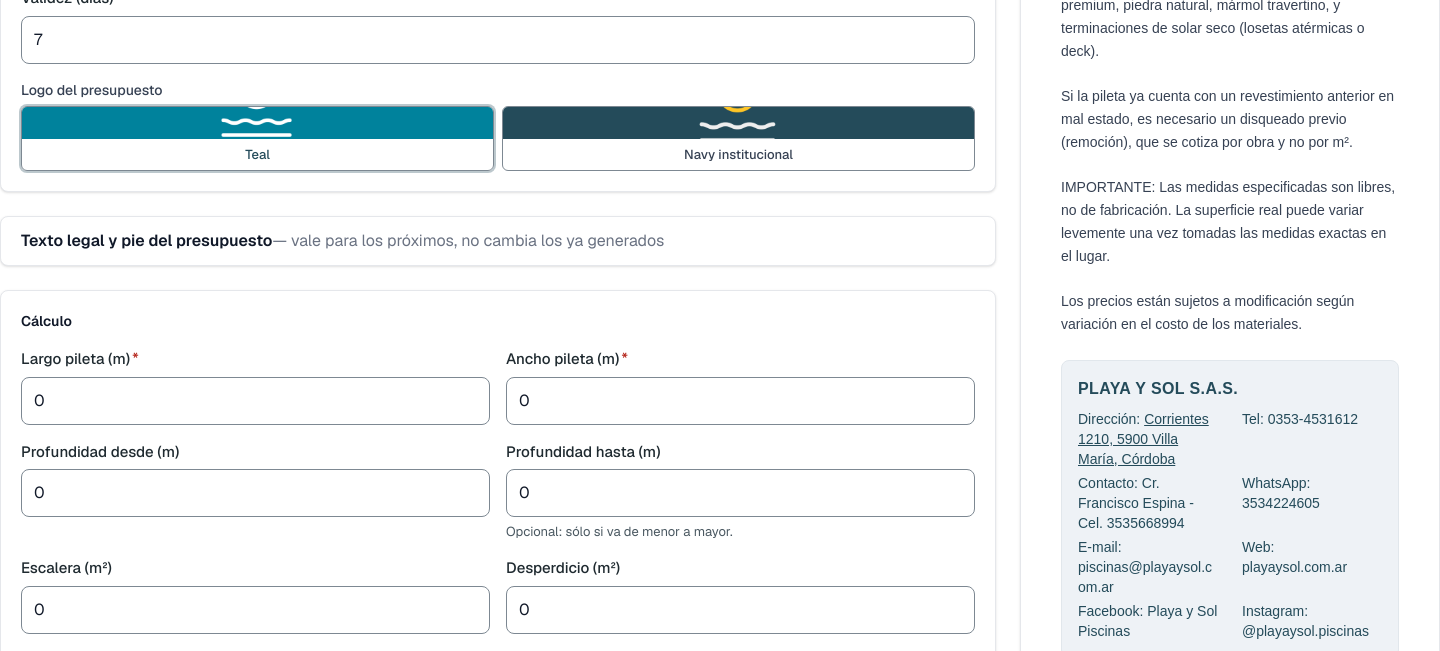
Test: RevestimientoCalculadora · paridad con el oráculo › un revestimiento incluido, cobrado por m² (68 m² × $112.000)
(page scrolled)
In the field labelled "Largo pileta (m)": coordinates (256, 401) [21,377,490,425], type "8"
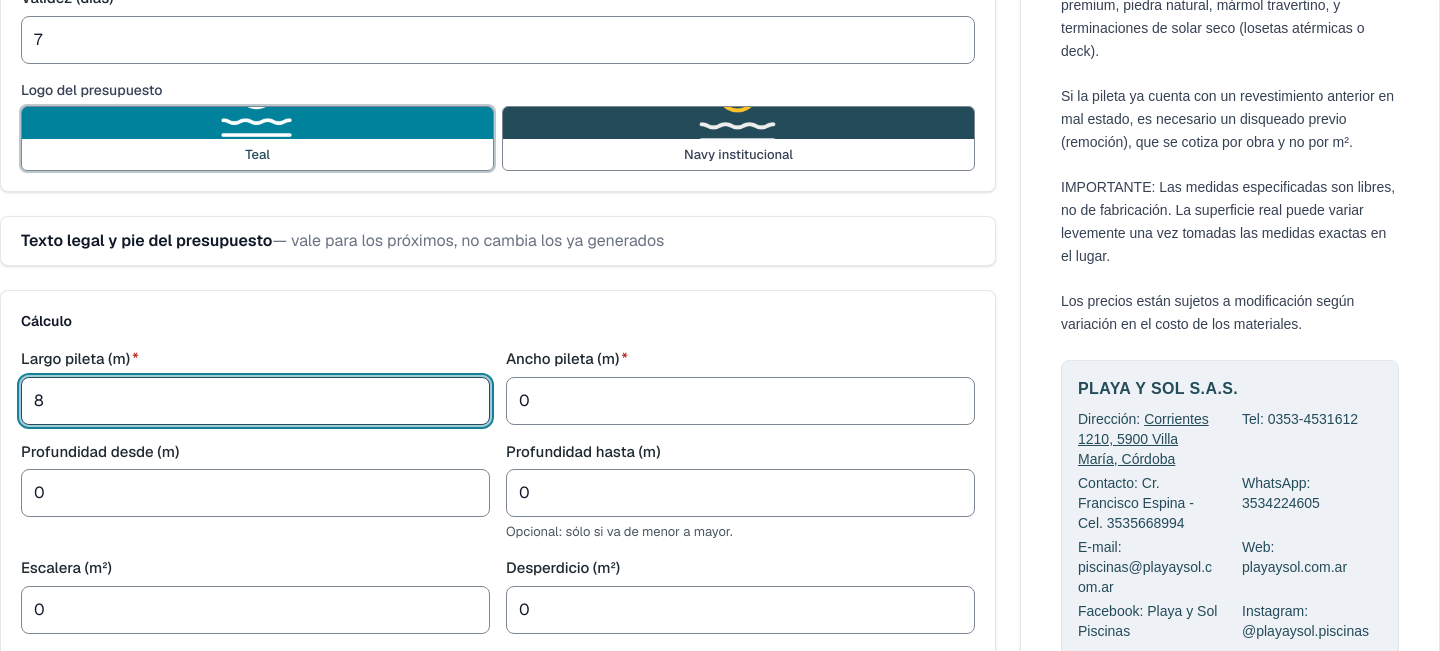
In the field labelled "Ancho pileta (m)": coordinates (740, 401) [506,377,975,425], type "4"
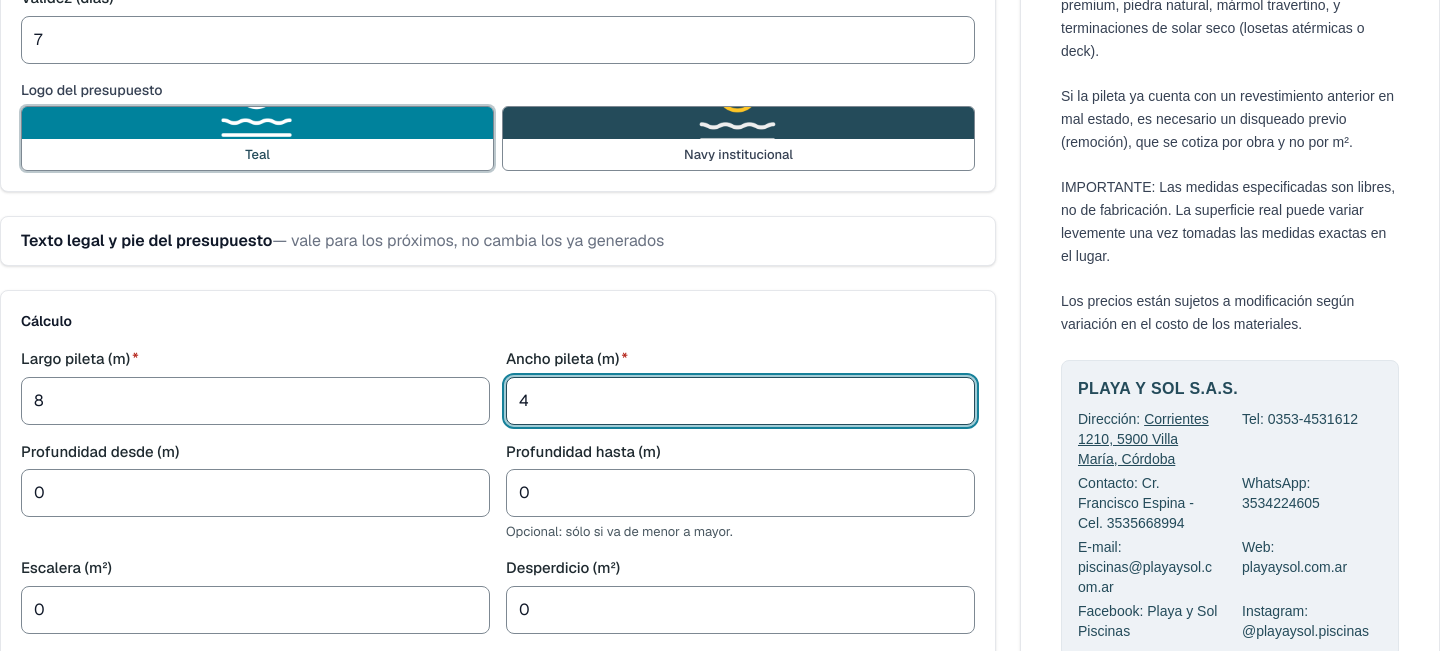
In the field labelled "Profundidad desde (m)": coordinates (256, 493) [21,469,490,517], type "1.5"
(page scrolled)
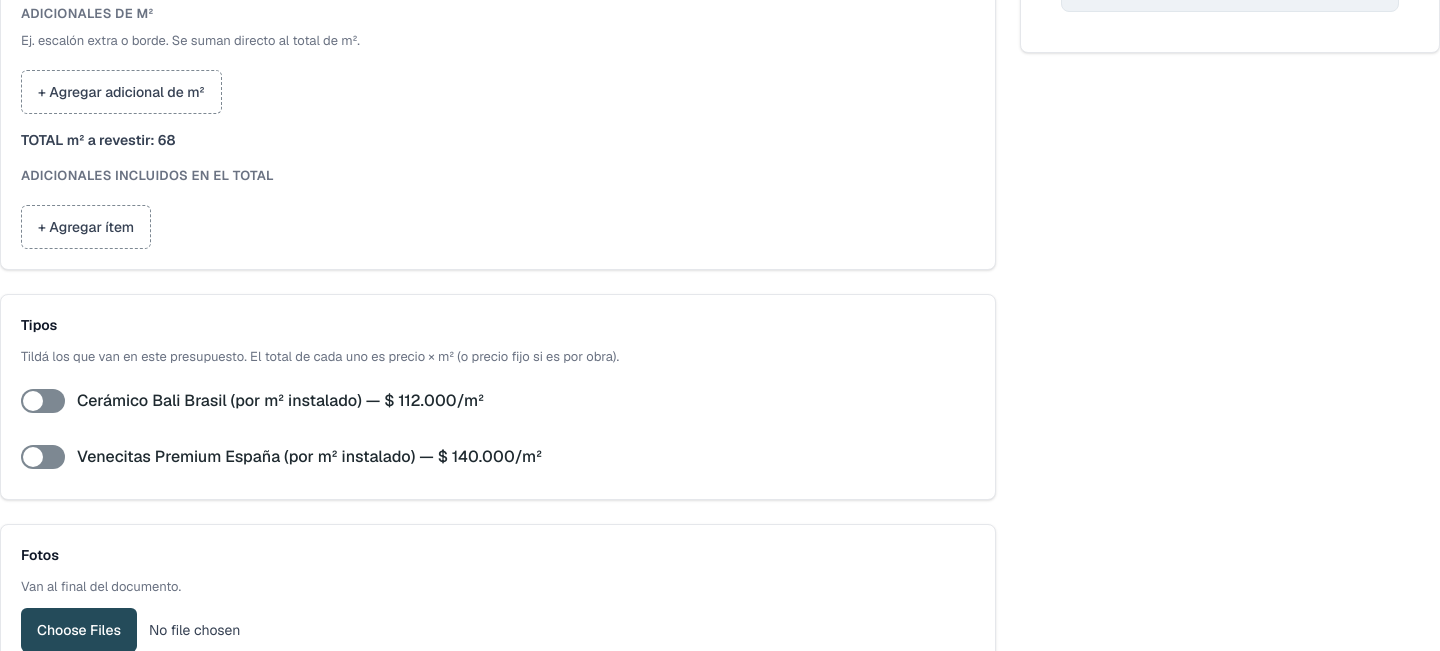
Click the switch labelled "Cerámico Bali Brasil (por m² instalado) — $ 112.000/m²": coordinates (252, 401) [21,389,484,413]
(page scrolled)
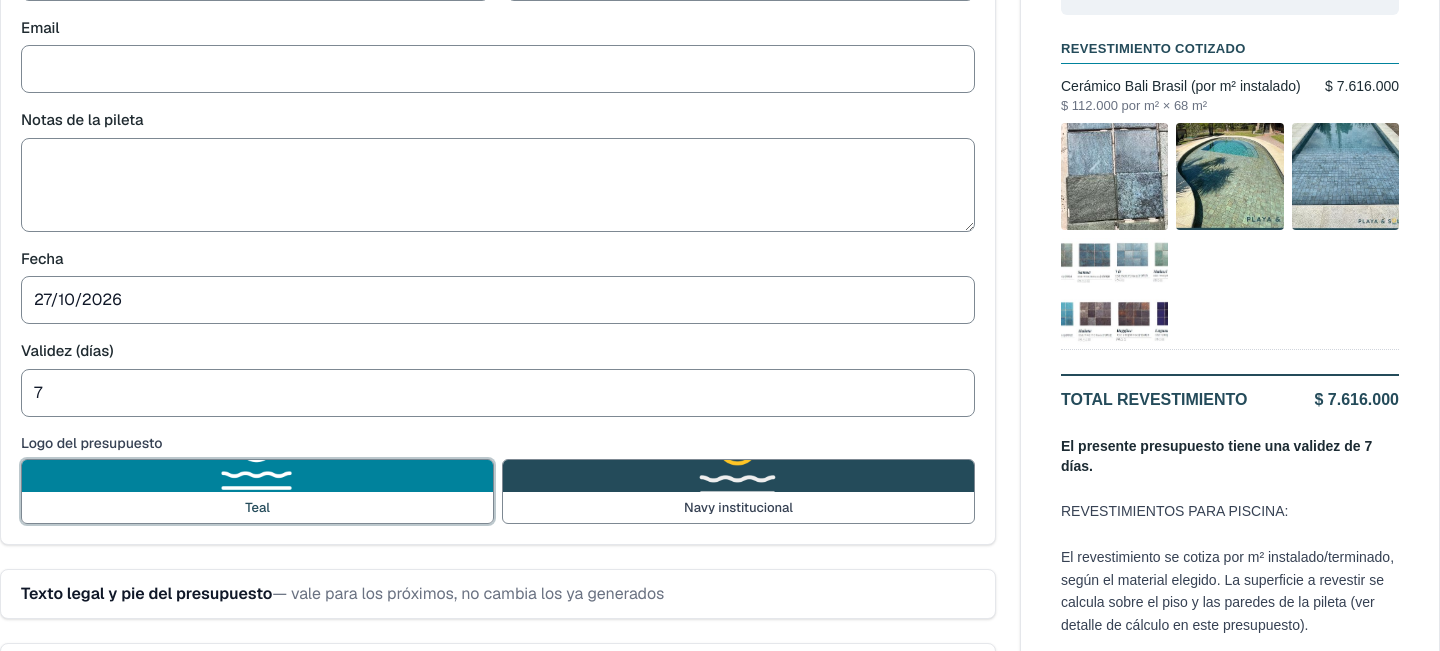
Check: the text "TOTAL REVESTIMIENTO" is shown, box [1061,388,1247,412]
Check: the text "$ 7.616.000" next to "TOTAL REVESTIMIENTO" is shown, box [1314,392,1399,408]
